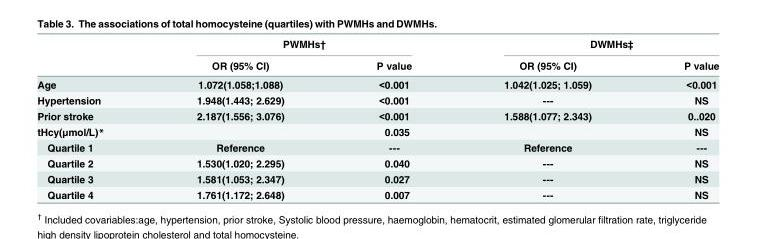table: (36, 37, 718, 200)
table column: (149, 37, 329, 200), (457, 37, 637, 200), (329, 37, 457, 200), (36, 37, 149, 200), (637, 37, 718, 200)
table column header: (36, 37, 718, 74)
table row: (36, 54, 718, 74), (36, 37, 718, 54), (36, 74, 718, 91), (36, 91, 718, 107), (36, 107, 718, 123), (36, 123, 718, 139), (36, 154, 718, 170), (36, 170, 718, 186), (36, 139, 718, 154), (36, 186, 718, 200)
table spanning cell: (149, 37, 457, 54), (457, 37, 718, 54)
